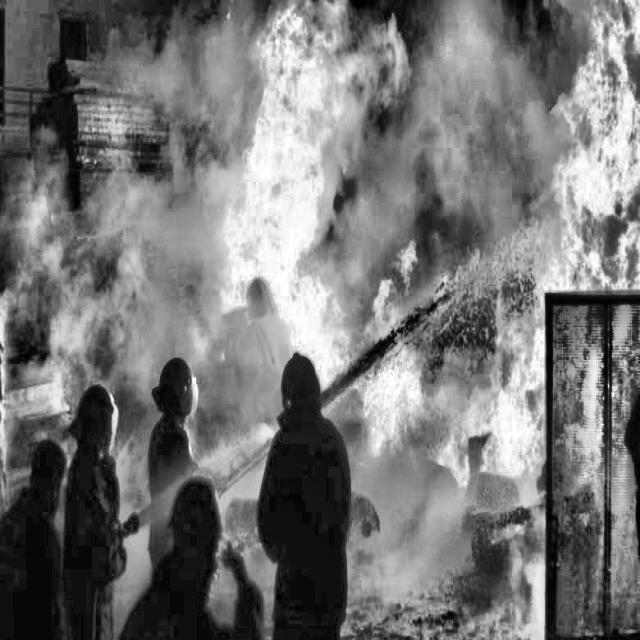fire: (227, 0, 629, 515)
